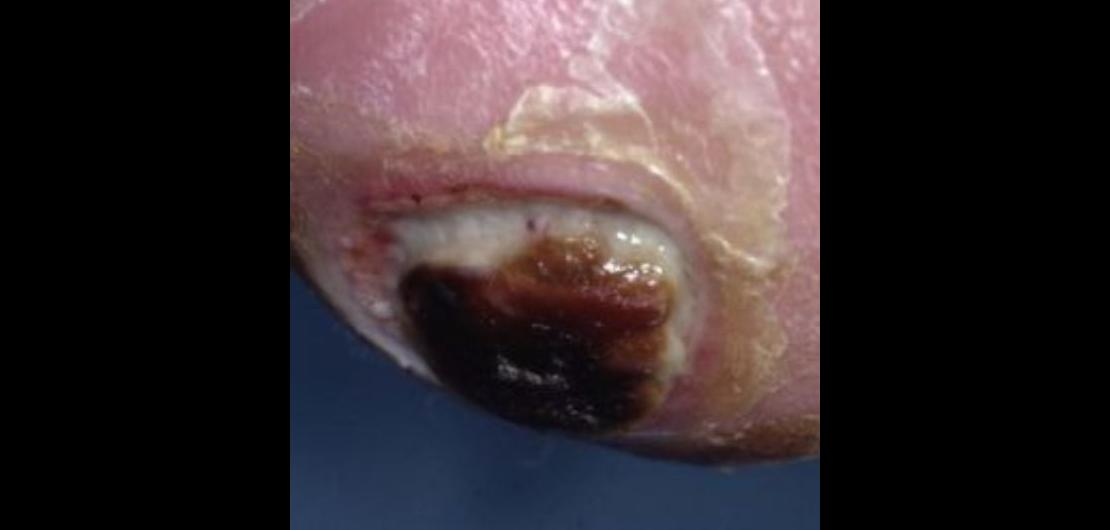Stage4: (335, 180, 716, 460)
